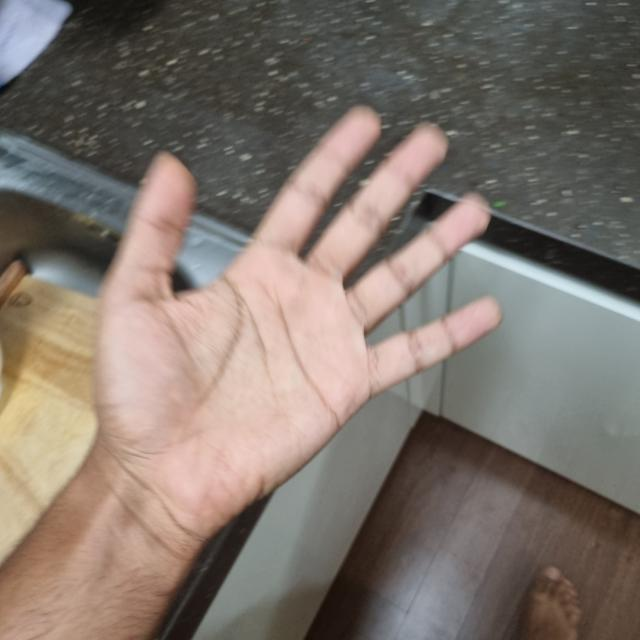Paper: (90, 111, 498, 524)
